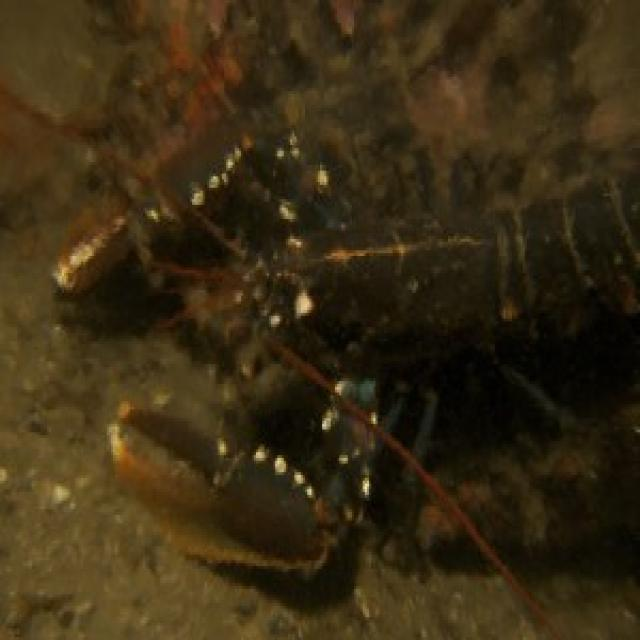lobsters: (67, 68, 633, 578)
